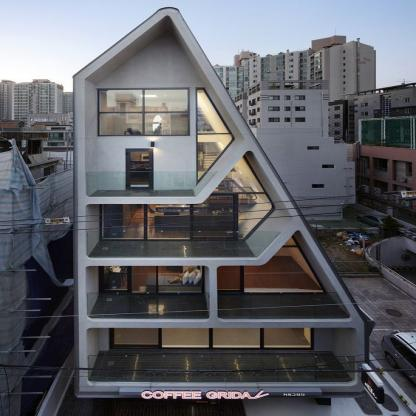Balcony: (87, 355, 355, 383), (86, 231, 282, 257), (217, 292, 350, 318), (86, 171, 218, 197), (86, 293, 210, 318)
Building Outline: (34, 7, 413, 416)
Door: (109, 328, 162, 350), (126, 149, 154, 190), (98, 266, 131, 294), (217, 266, 244, 294)
Facade: (74, 87, 226, 416)
Floor: (73, 322, 366, 383), (73, 261, 331, 318), (73, 201, 294, 258)
Floor Slab: (73, 318, 366, 322), (73, 383, 366, 386), (73, 257, 269, 261), (73, 197, 205, 200)
Ground Floor: (73, 386, 366, 416)
Pillar: (315, 398, 331, 405)
Shop: (141, 389, 270, 399), (283, 394, 305, 397)
Top Floor: (74, 88, 226, 201)
Window: (100, 194, 237, 241), (211, 155, 275, 241), (244, 235, 328, 294), (97, 89, 190, 135), (196, 89, 235, 186), (162, 328, 312, 350), (131, 266, 205, 294)
Window Hole: (84, 16, 244, 197), (84, 151, 293, 260), (86, 328, 358, 386), (217, 230, 352, 322), (85, 265, 210, 322)
